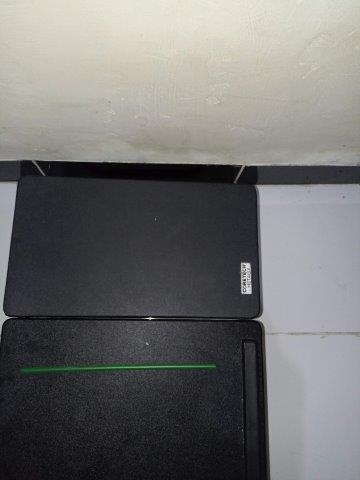sedotan: (20, 364, 216, 375)
